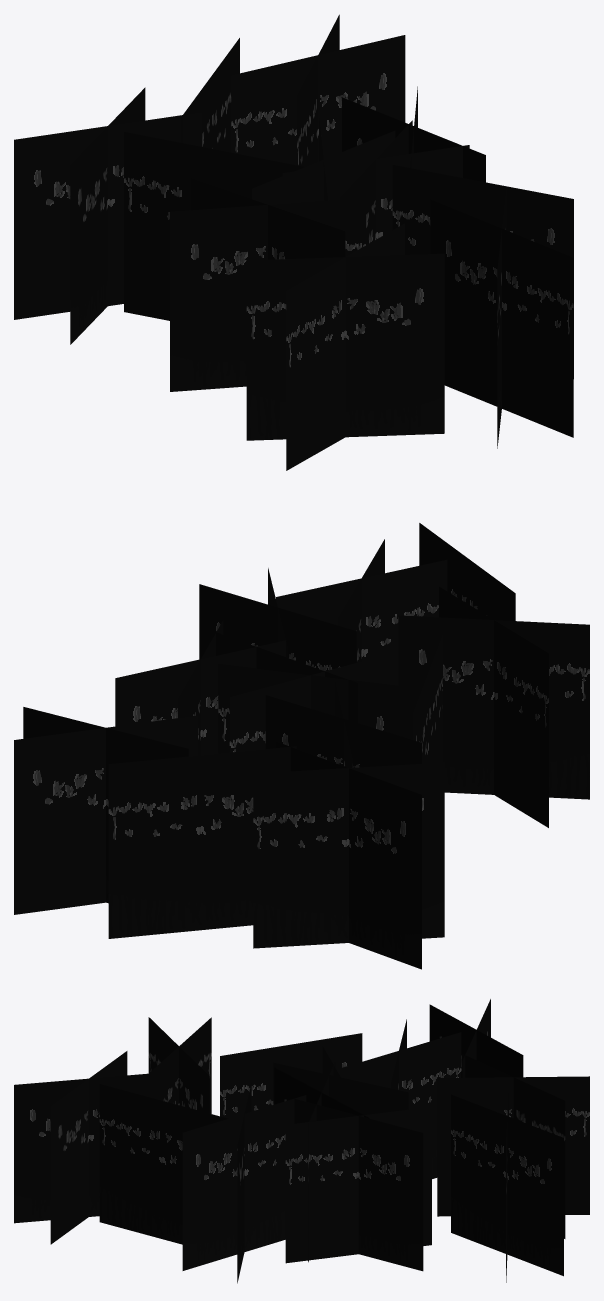
File: Juncos001.glb
3 views of the same model, one above another, from view 1: azimuth 30°, elevation 25°; view 2: azimuth 150°, elevation 25°; view 3: azimuth 270°, elevation 25° (orthographic). The views are drawn at different scales.
Parts seen in each view (by area): view 1: Juncos001; view 2: Juncos001; view 3: Juncos001.
Boxes of the visible parts, x1,y1,x2,y2 form: Juncos001: [14, 14, 573, 470]; Juncos001: [14, 523, 589, 969]; Juncos001: [14, 999, 589, 1283].
Size of the model in its own units: 3.84 by 1.65 by 6.21.
1 material, 1 textured.
